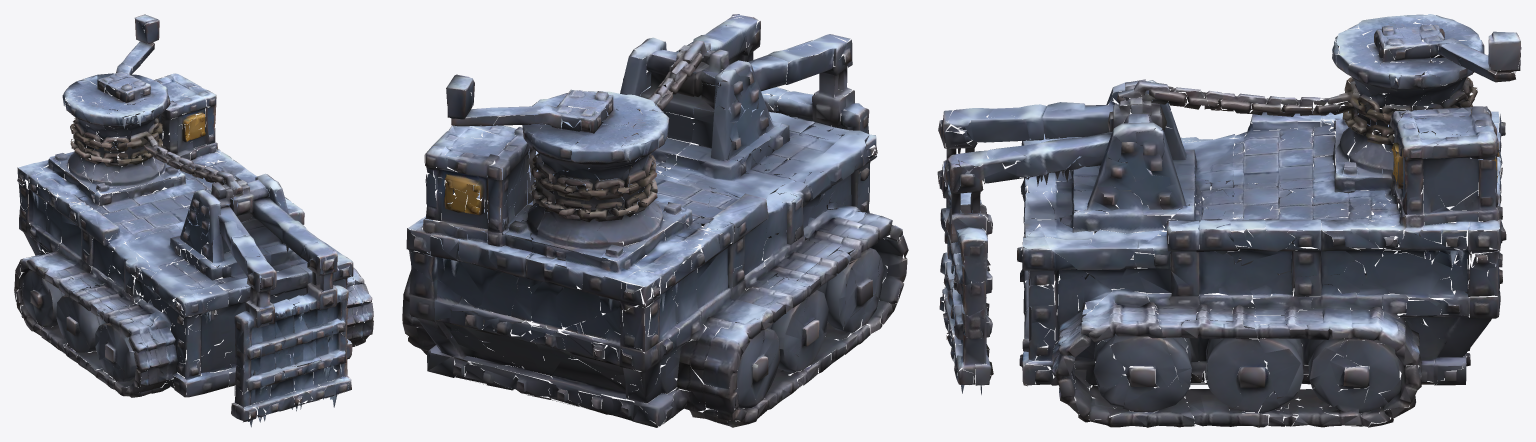
Rendered from sluicekeeper.glb.
3 renders of one model, left to right at view 1: azimuth 30°, elevation 25°; view 2: azimuth 150°, elevation 25°; view 3: azimuth 270°, elevation 25°, orthographic. The views are drawn at different scales.
Visible parts, largest first — view 1: tripo_node_9f2b2d9d-3e3d-4138-844b-00884477c1e3; view 2: tripo_node_9f2b2d9d-3e3d-4138-844b-00884477c1e3; view 3: tripo_node_9f2b2d9d-3e3d-4138-844b-00884477c1e3.
Boxes of the visible parts, x1,y1,x2,y2 form: tripo_node_9f2b2d9d-3e3d-4138-844b-00884477c1e3: (14,14,373,427); tripo_node_9f2b2d9d-3e3d-4138-844b-00884477c1e3: (402,14,908,427); tripo_node_9f2b2d9d-3e3d-4138-844b-00884477c1e3: (937,14,1521,427).
Size of the model in its own units: 0.6574 by 0.668 by 0.9795.
Materials: 1 (1 with a texture image).
